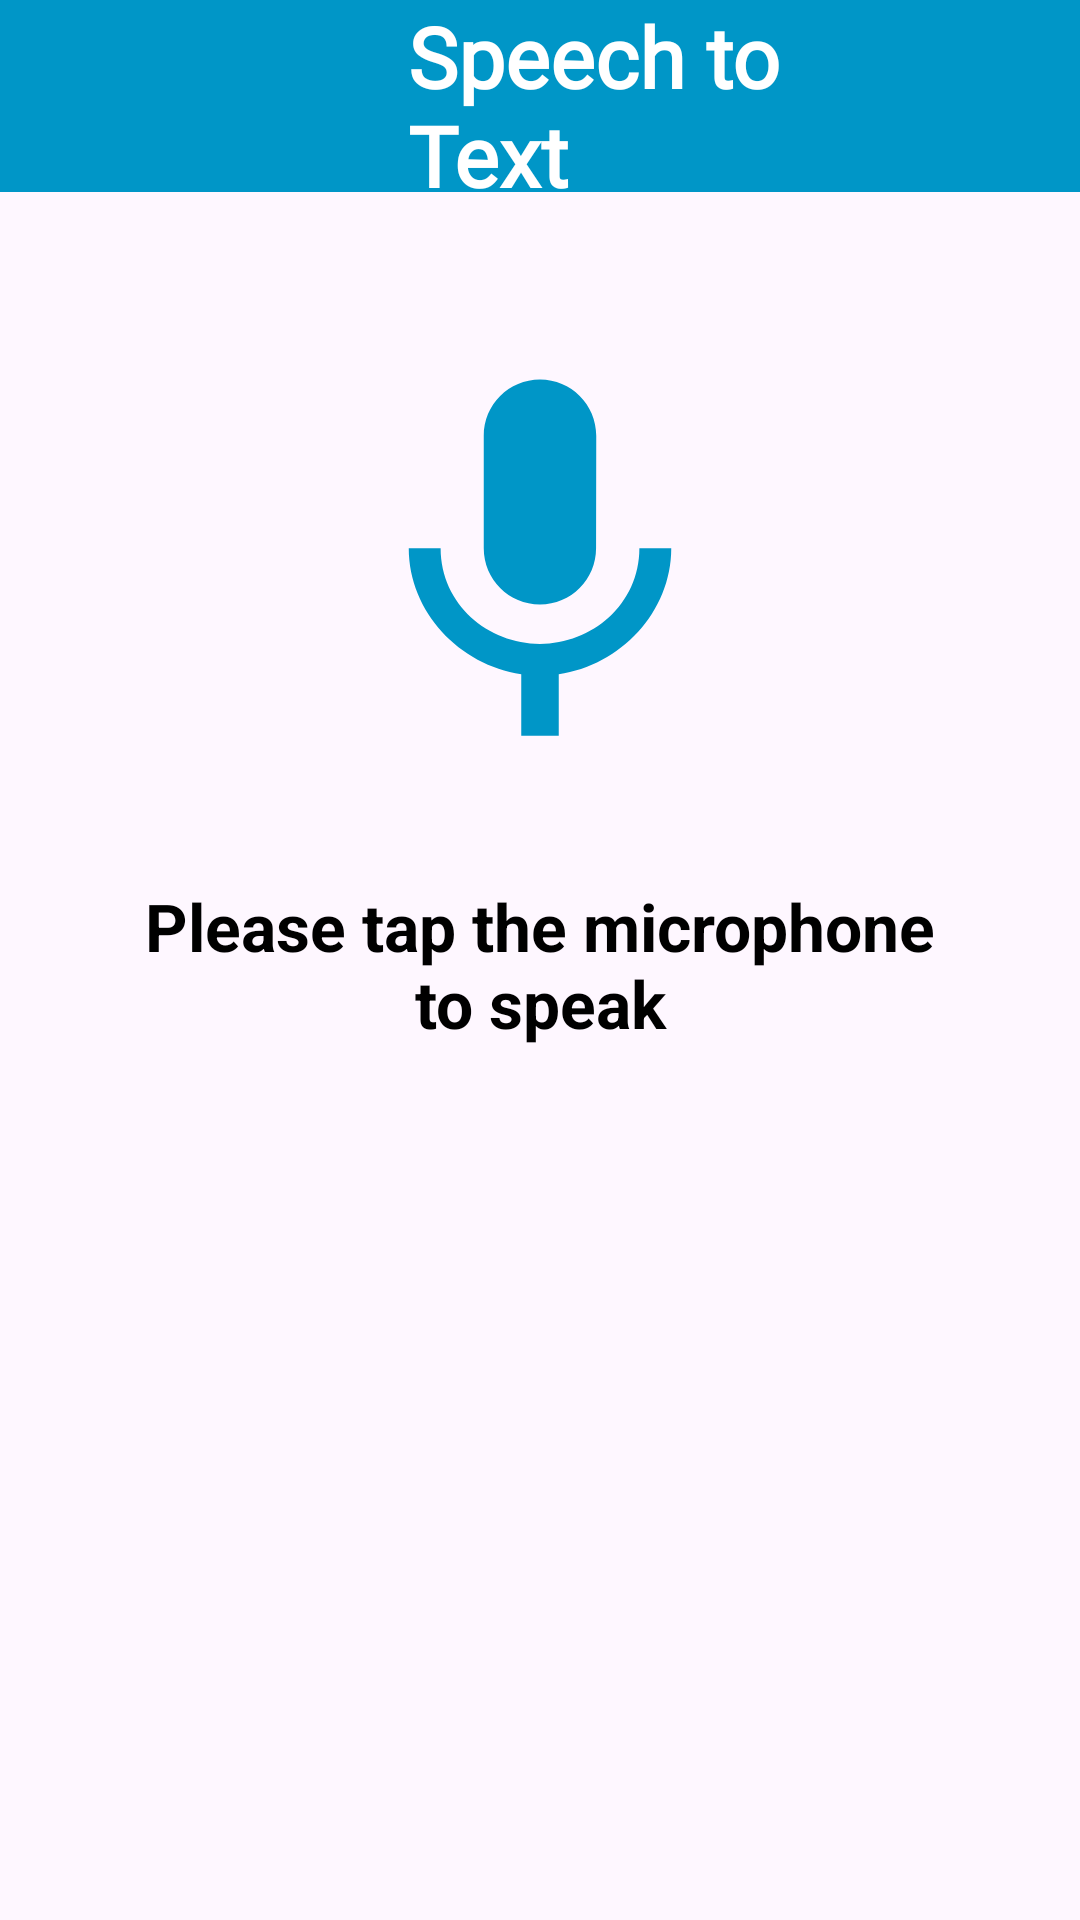

Screen size 1080*1920. Icon name, then its center in pixels as point (x, y):
mic: point (540, 557)
